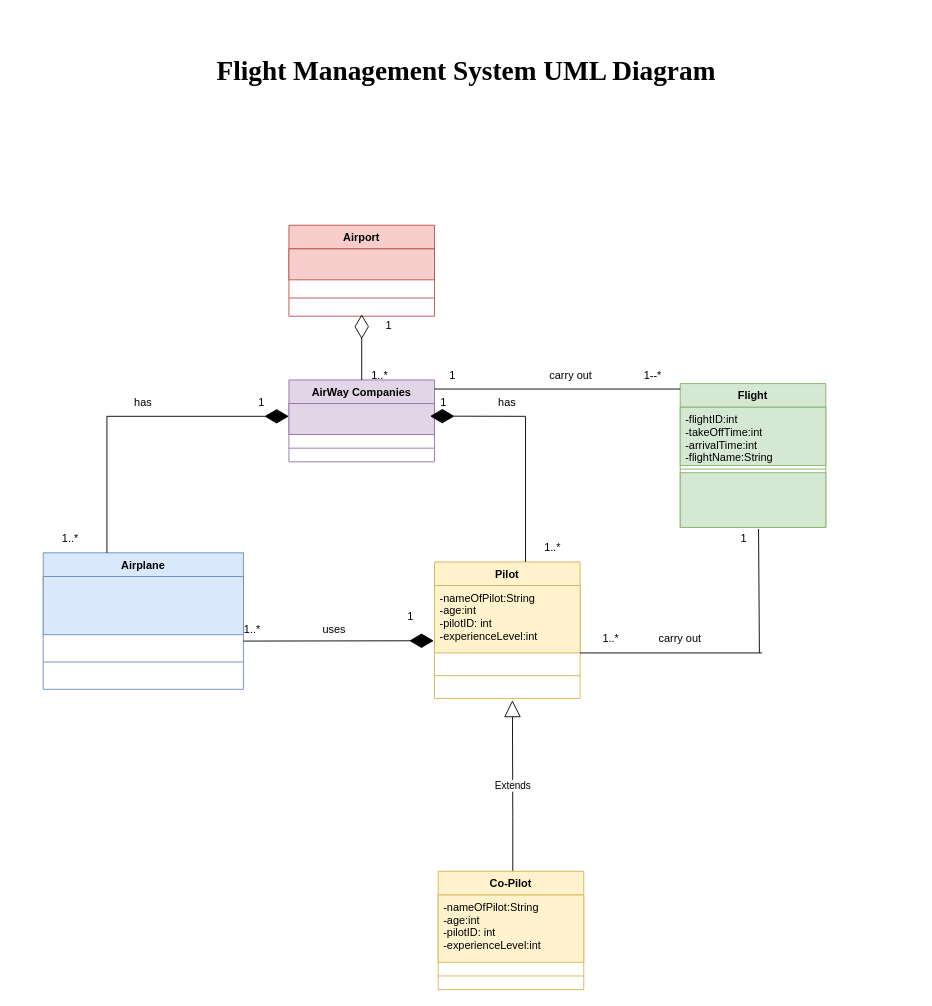
This 932x1006 diagram has some shape labels left out. The shapes that lost their labels are listed below. From the top down, each one's box as (x1, y1, x2, y2) in pixels, then its label:
(288, 248, 435, 280): -airportName:String -airportID:int
(288, 403, 435, 435): - companyID:int -companyName:String
(679, 472, 826, 527): +takeOff() +landing()
(42, 576, 243, 635): - typeOfAirplane:String -airplaneID: int -airplaneStatus: bool
